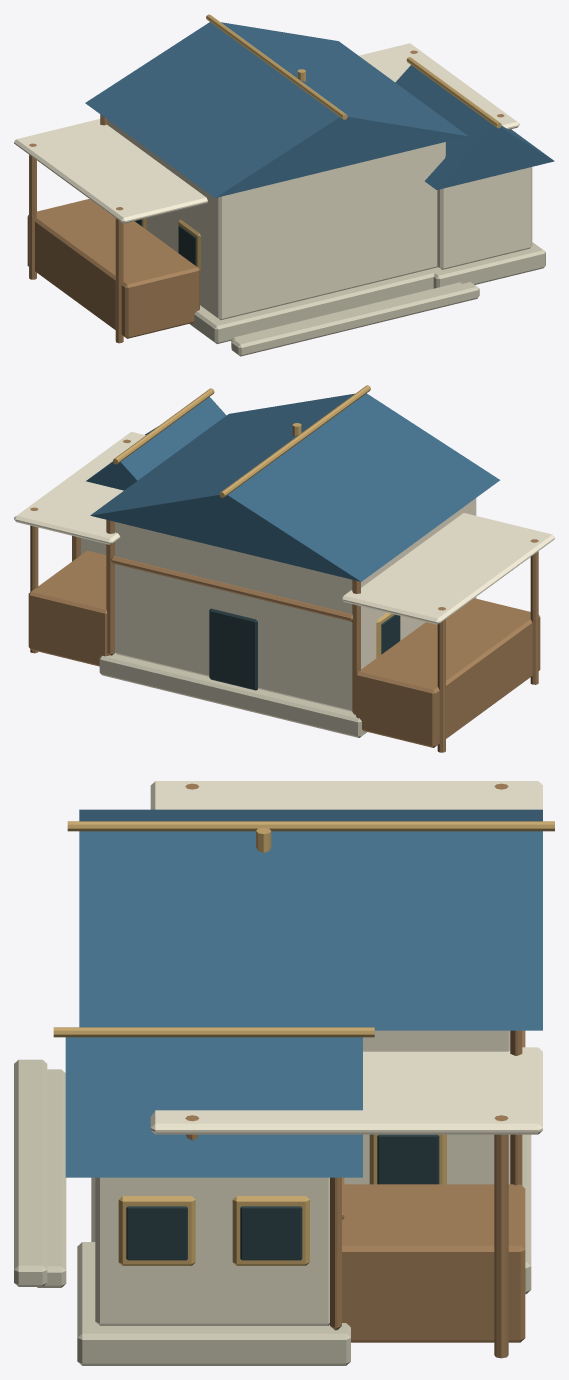
File: level_13.glb
3 views of the same model, one above another, from view 1: azimuth 30°, elevation 25°; view 2: azimuth 150°, elevation 25°; view 3: azimuth 270°, elevation 25° (orthographic). The views are drawn at different scales.
Visible parts, largest first — view 1: market — level 13; view 2: market — level 13; view 3: market — level 13.
Boxes of the visible parts, x1=… form: market — level 13: x1=14, y1=14, x2=554, y2=356; market — level 13: x1=14, y1=385, x2=554, y2=752; market — level 13: x1=14, y1=781, x2=554, y2=1365.
Bounding box in the file's own units: 7.08 × 3.42 × 4.55.
